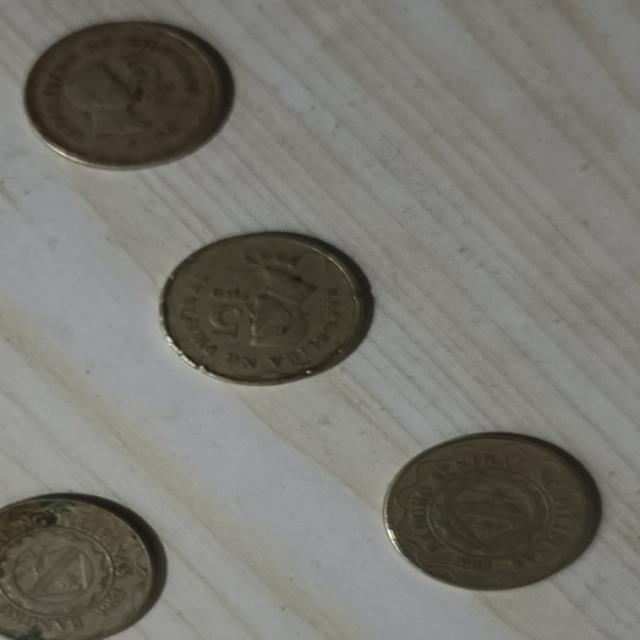5_peso: (384, 433, 600, 590), (160, 233, 372, 383), (26, 21, 233, 169), (0, 496, 163, 639)
